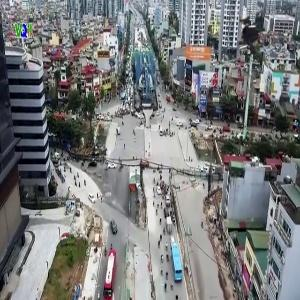drone: (216, 8, 277, 69)
